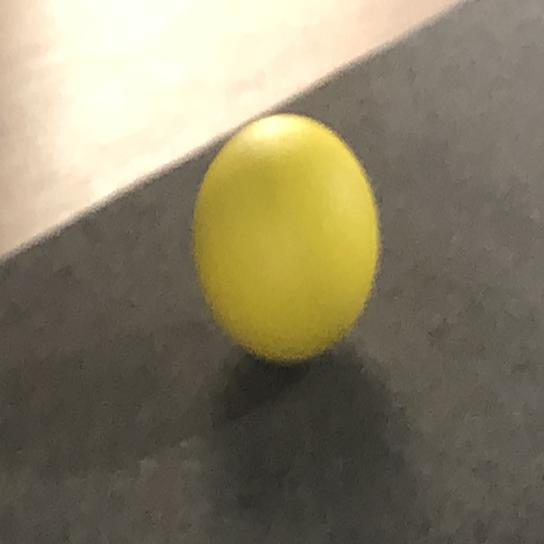ball: (189, 107, 387, 367)
